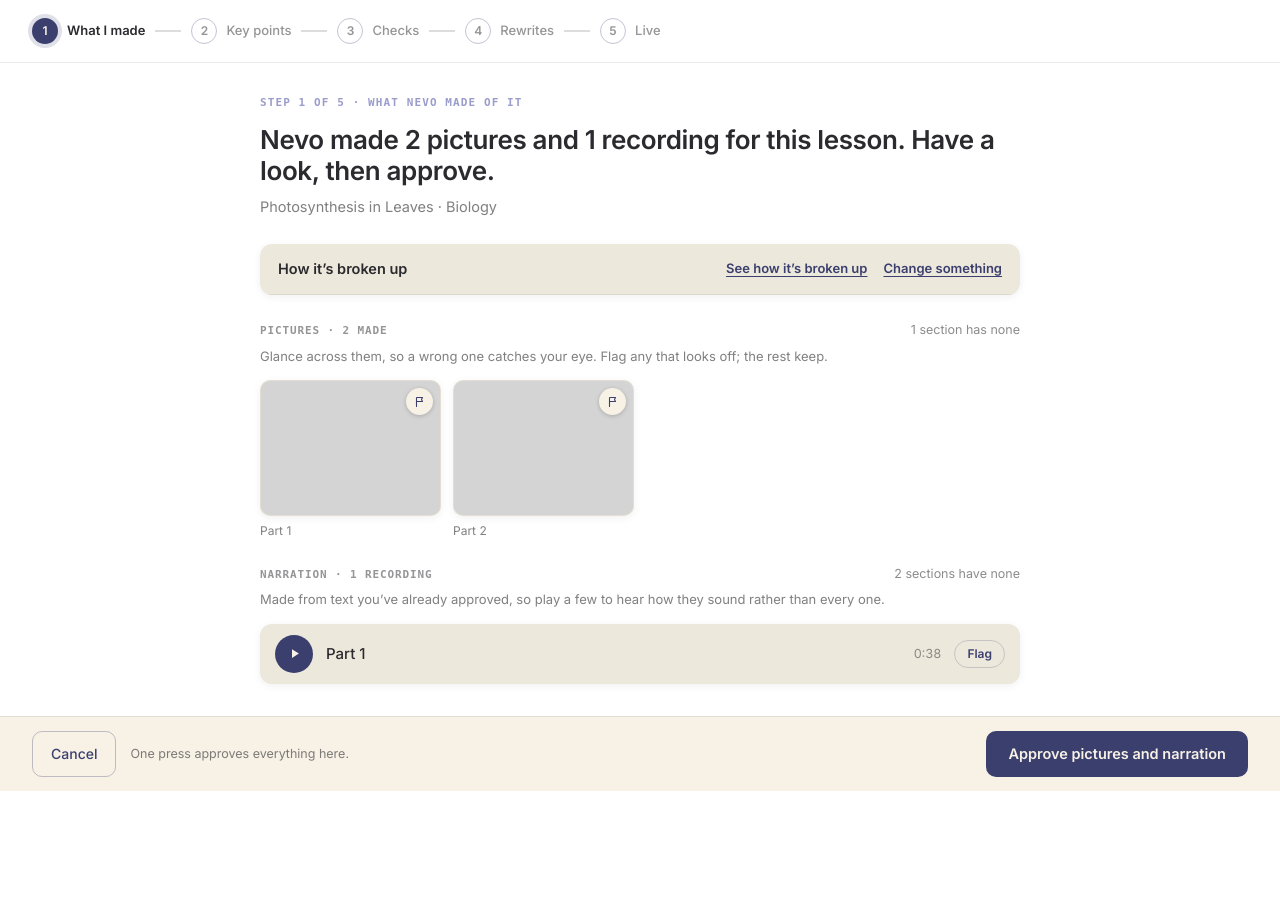
Test: pictures and narration in step 1 › approves everything shown in one press, then moves on
The image size is (1280, 900).
Expected: the navigation bar named "Lesson review steps" is shown, [0,0,1279,63]
Expected: the text "One press approves everything here." is shown, [130,746,349,761]
Click the button "Approve pictures and narration": coordinates (1117, 754) [986,731,1248,777]
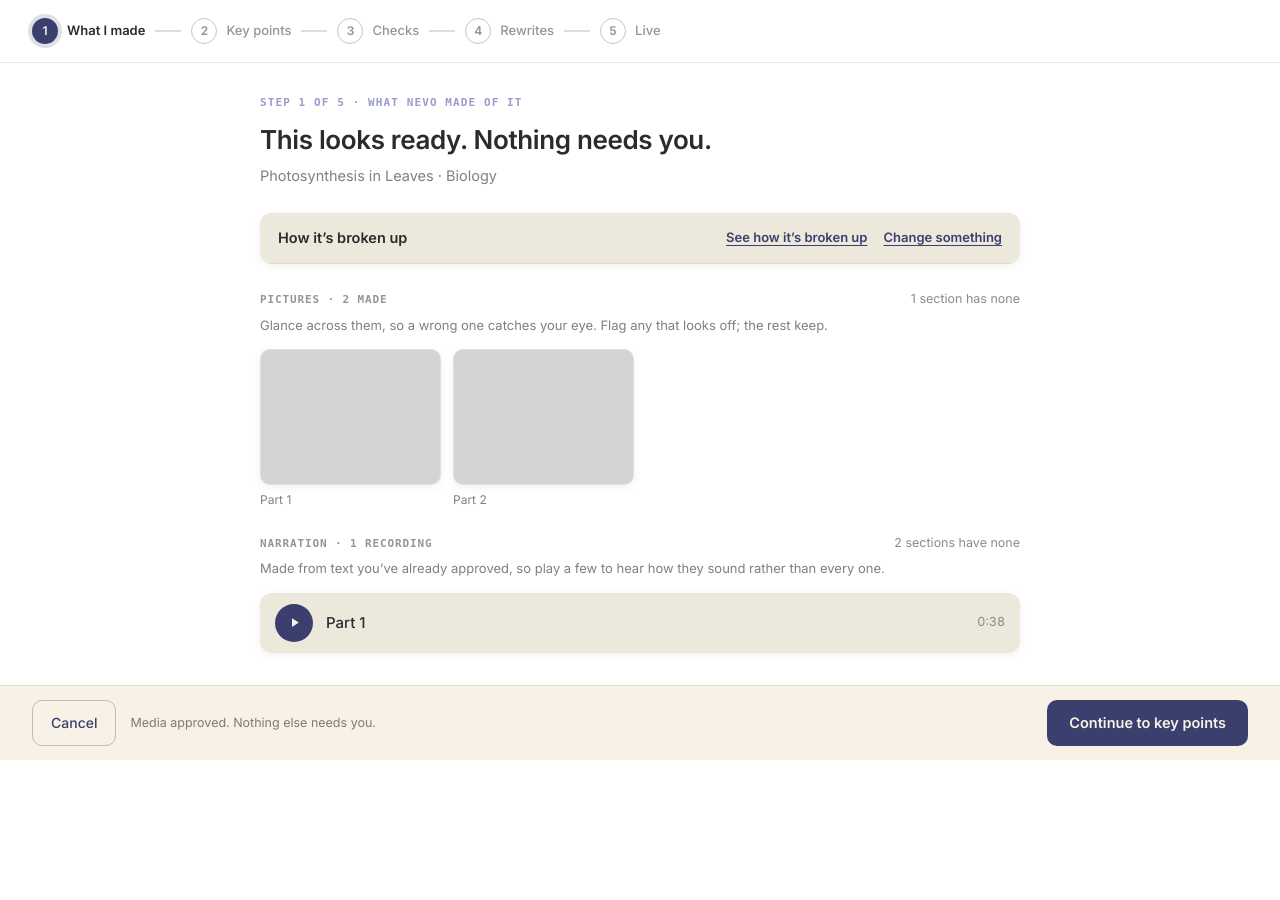
Expected: the button "Continue to key points" is shown, [1047,700,1248,746]
Expected: the text "Media approved. Nothing else needs you." is shown, [130,715,376,730]
